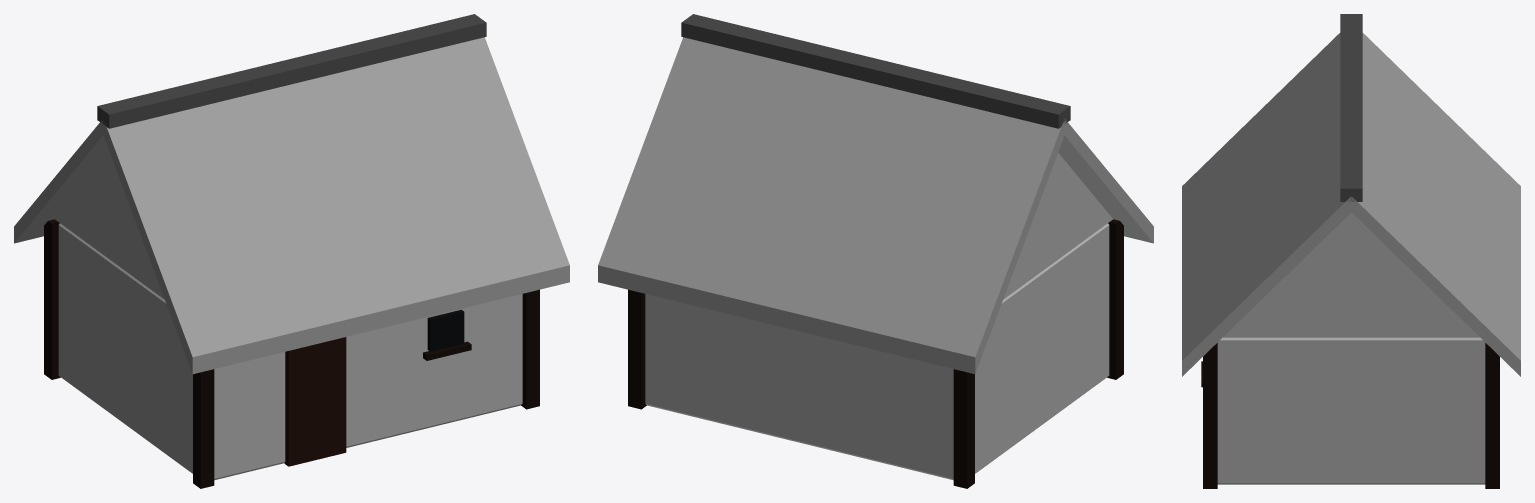
Rendered from home_small_g.fbx.
3 renders of one model, left to right at view 1: azimuth 30°, elevation 25°; view 2: azimuth 150°, elevation 25°; view 3: azimuth 270°, elevation 25°, orthographic. The views are drawn at different scales.
Parts seen in each view (by area): view 1: home_small_g; view 2: home_small_g; view 3: home_small_g.
Boxes of the visible parts, <box> form: home_small_g: <box>14,14,569,488</box>; home_small_g: <box>598,14,1153,488</box>; home_small_g: <box>1182,14,1520,488</box>.
Bounding box in the file's own units: 5.56 × 4.59 × 4.56.
